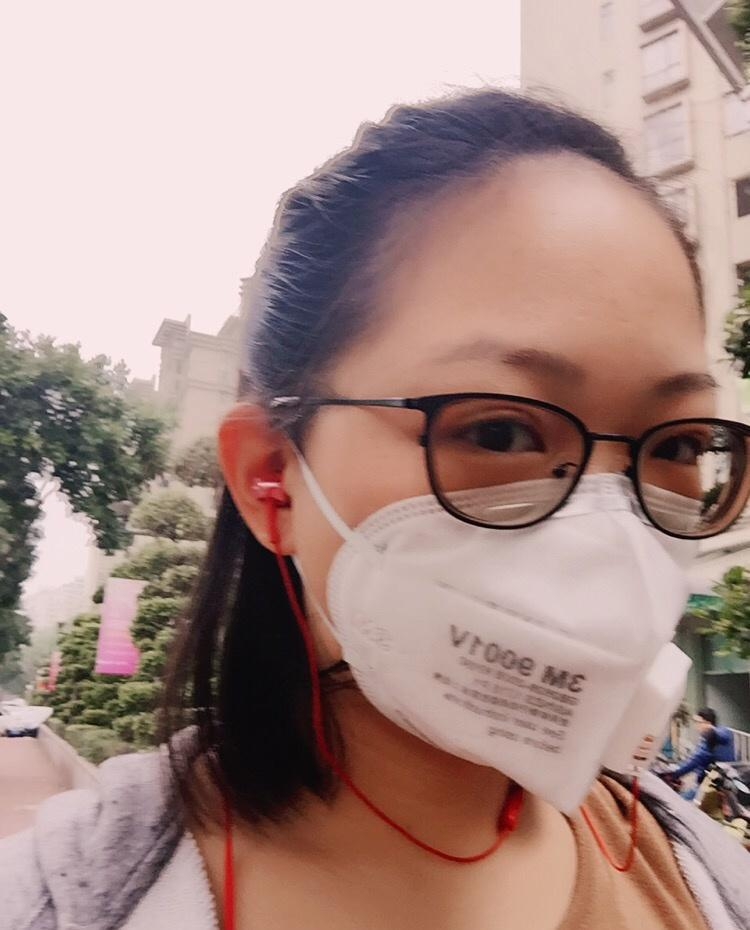OK: (254, 307, 721, 774)
